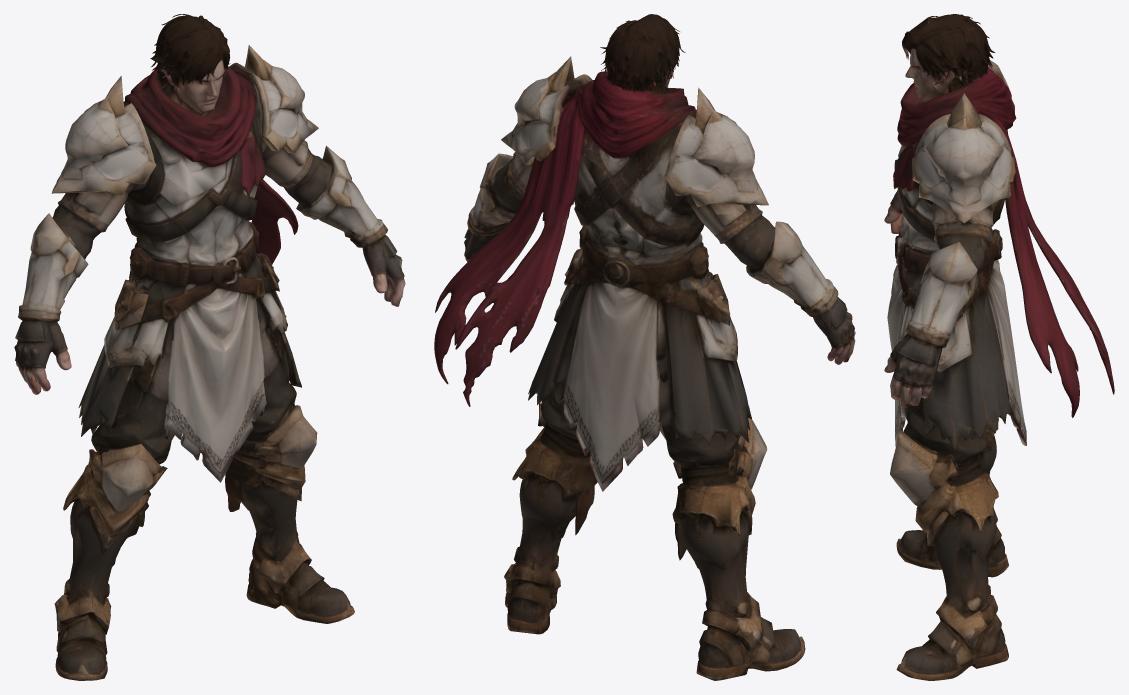
File: berserker.glb
3 views of the same model, side by side, from view 1: azimuth 30°, elevation 25°; view 2: azimuth 150°, elevation 25°; view 3: azimuth 270°, elevation 25° (orthographic). The views are drawn at different scales.
Parts seen in each view (by area): view 1: material; view 2: material; view 3: material.
Part boxes in pixels (x1,y1,x2,y2): material: (14,14,405,680); material: (434,14,855,680); material: (884,14,1114,680).
Bounding box in the file's own units: 1.14 × 1.76 × 0.6133.
1 material, 1 textured.
